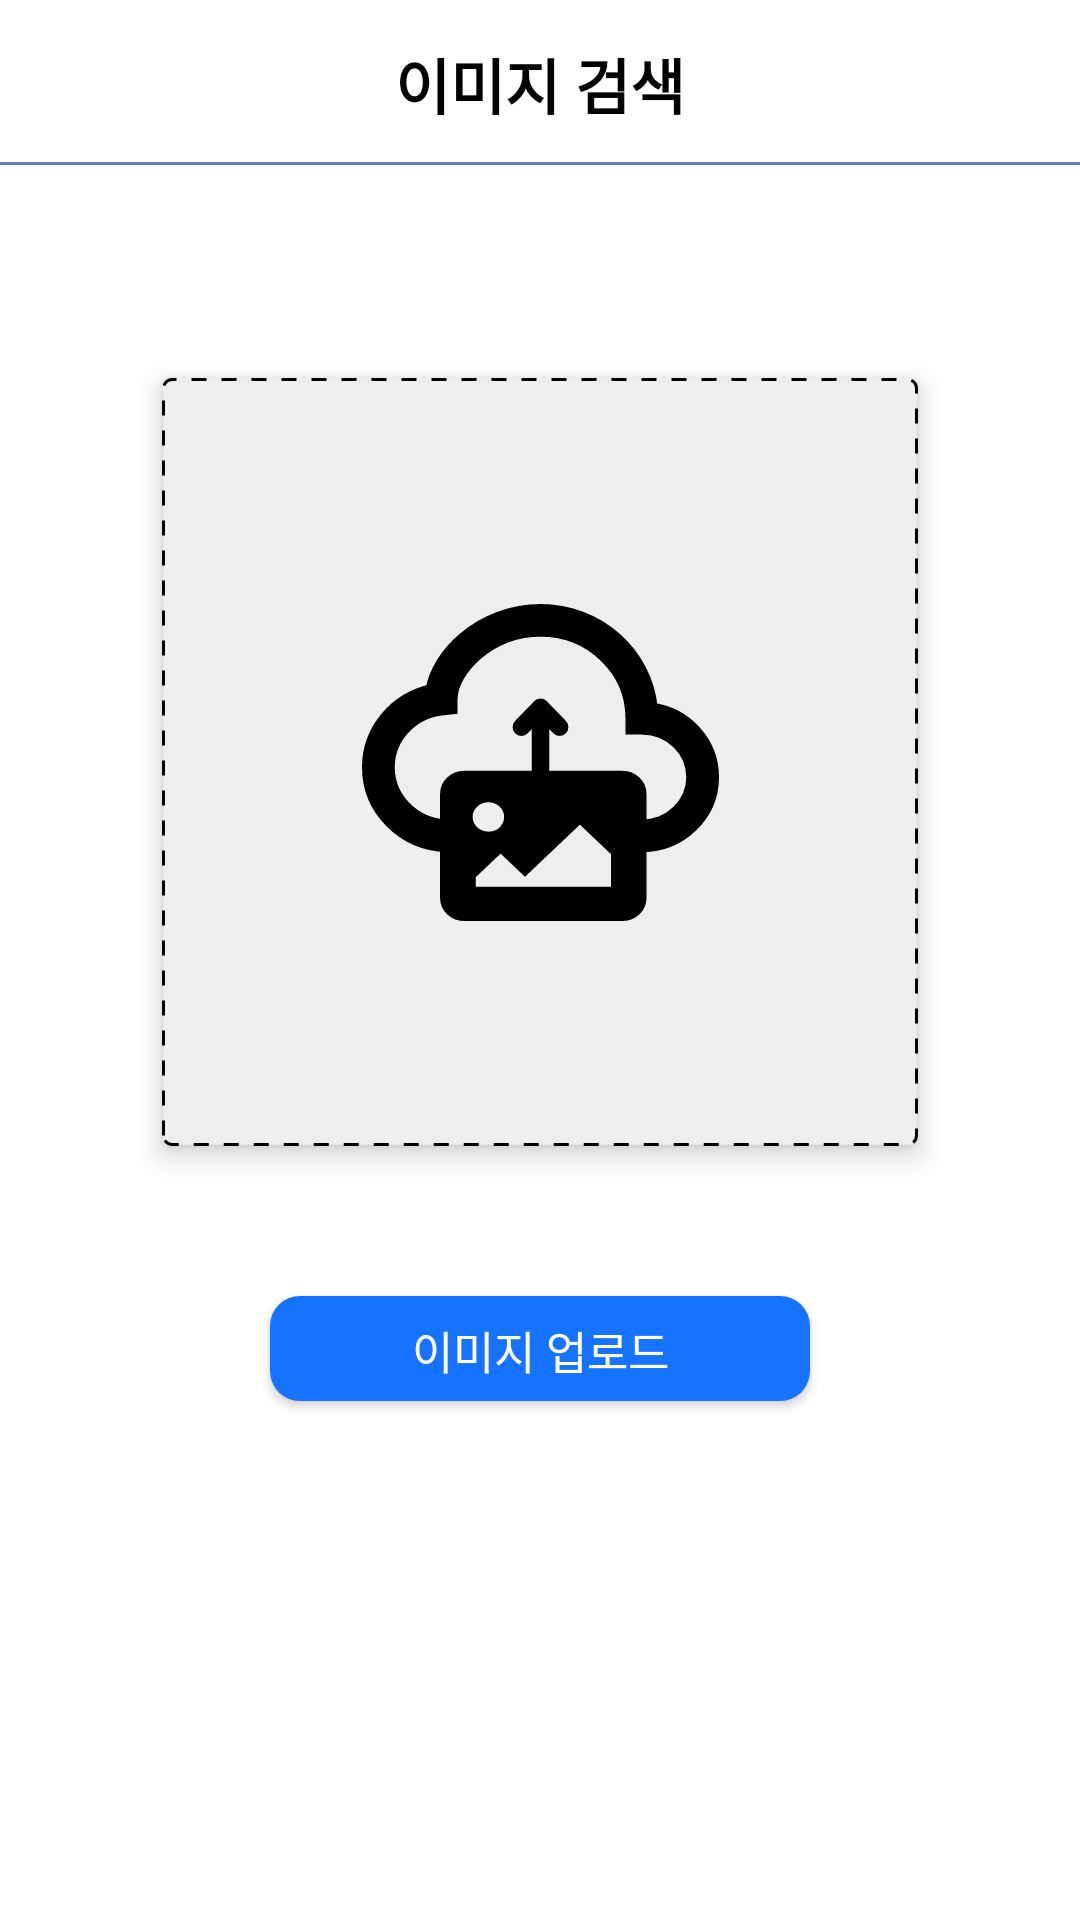

Icon click points for this 1080 × 1920 phone screenshot, format (x,y):
upload: (540,762)
